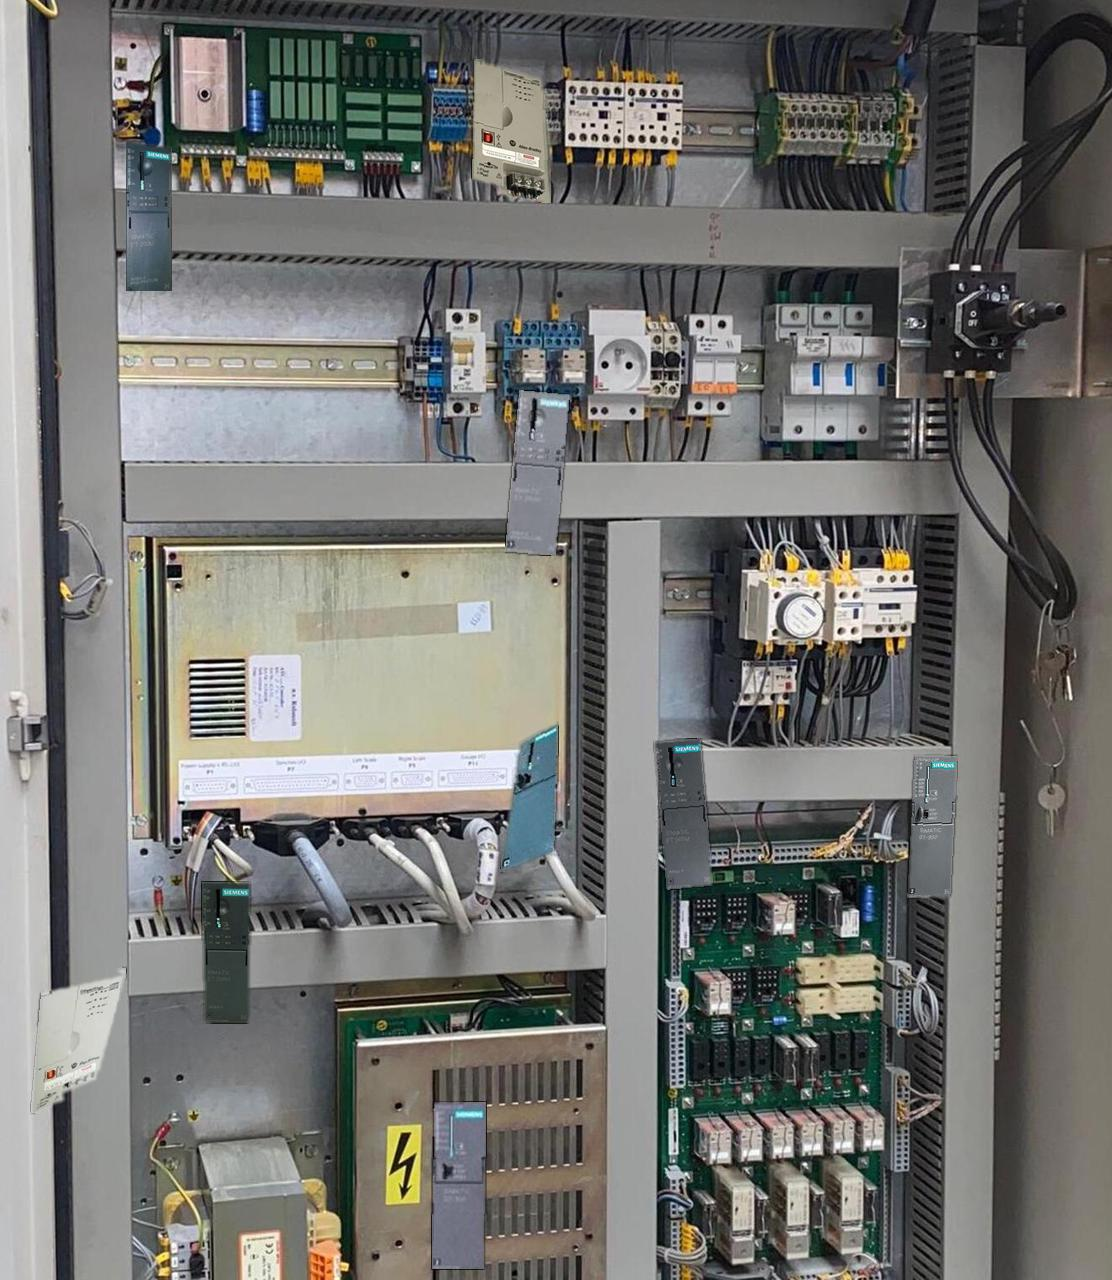AllenBradley: (32, 968, 125, 1112), (472, 59, 549, 202)
Siemens: (432, 1101, 485, 1268), (501, 723, 558, 871), (909, 756, 956, 897)
